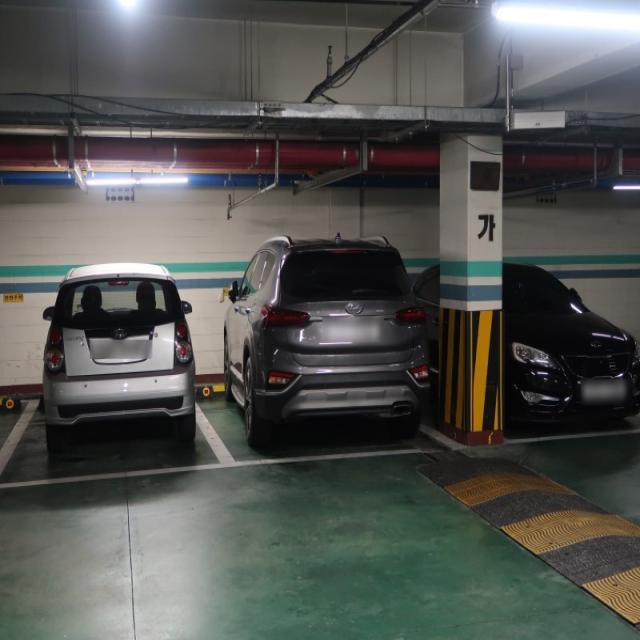occupied: (224, 233, 435, 440), (34, 265, 210, 444), (502, 246, 634, 414)
